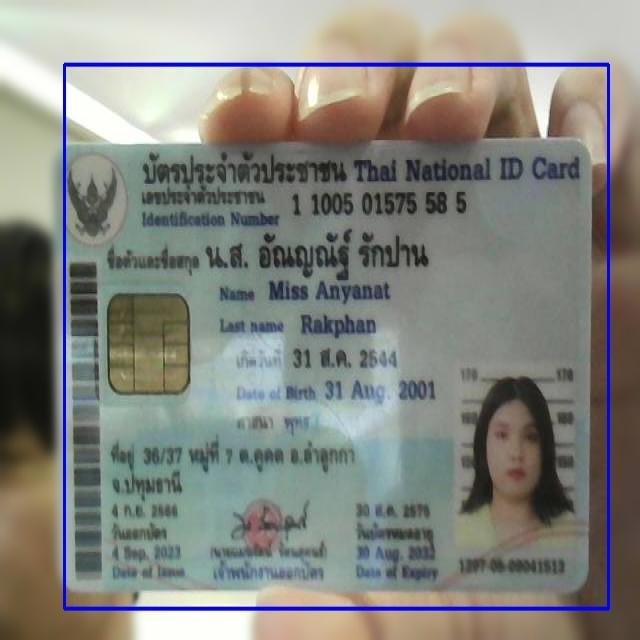Address_th: (103, 430, 364, 506)
Date_of_Birth: (321, 374, 439, 408)
Date_of_Expiry: (350, 541, 440, 566)
Date_of_Issue: (109, 542, 183, 567)
First_Name: (266, 278, 394, 307)
ID_Number: (290, 186, 470, 222)
Image: (458, 363, 578, 558)
Last_Name: (296, 308, 380, 342)
Thai_Name: (203, 227, 438, 283)
